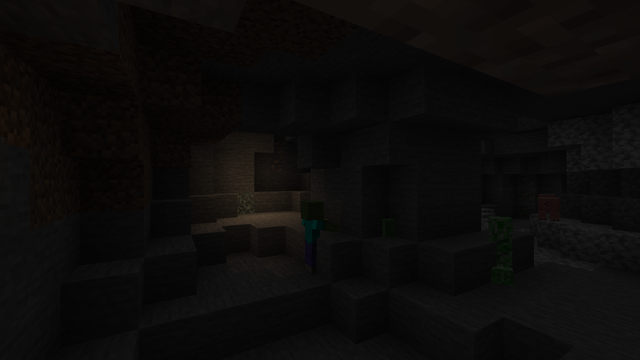cochons: (529, 196, 565, 221)
creepers: (481, 212, 517, 284)
slimes: (382, 215, 395, 237)
zombies: (298, 202, 326, 276)
